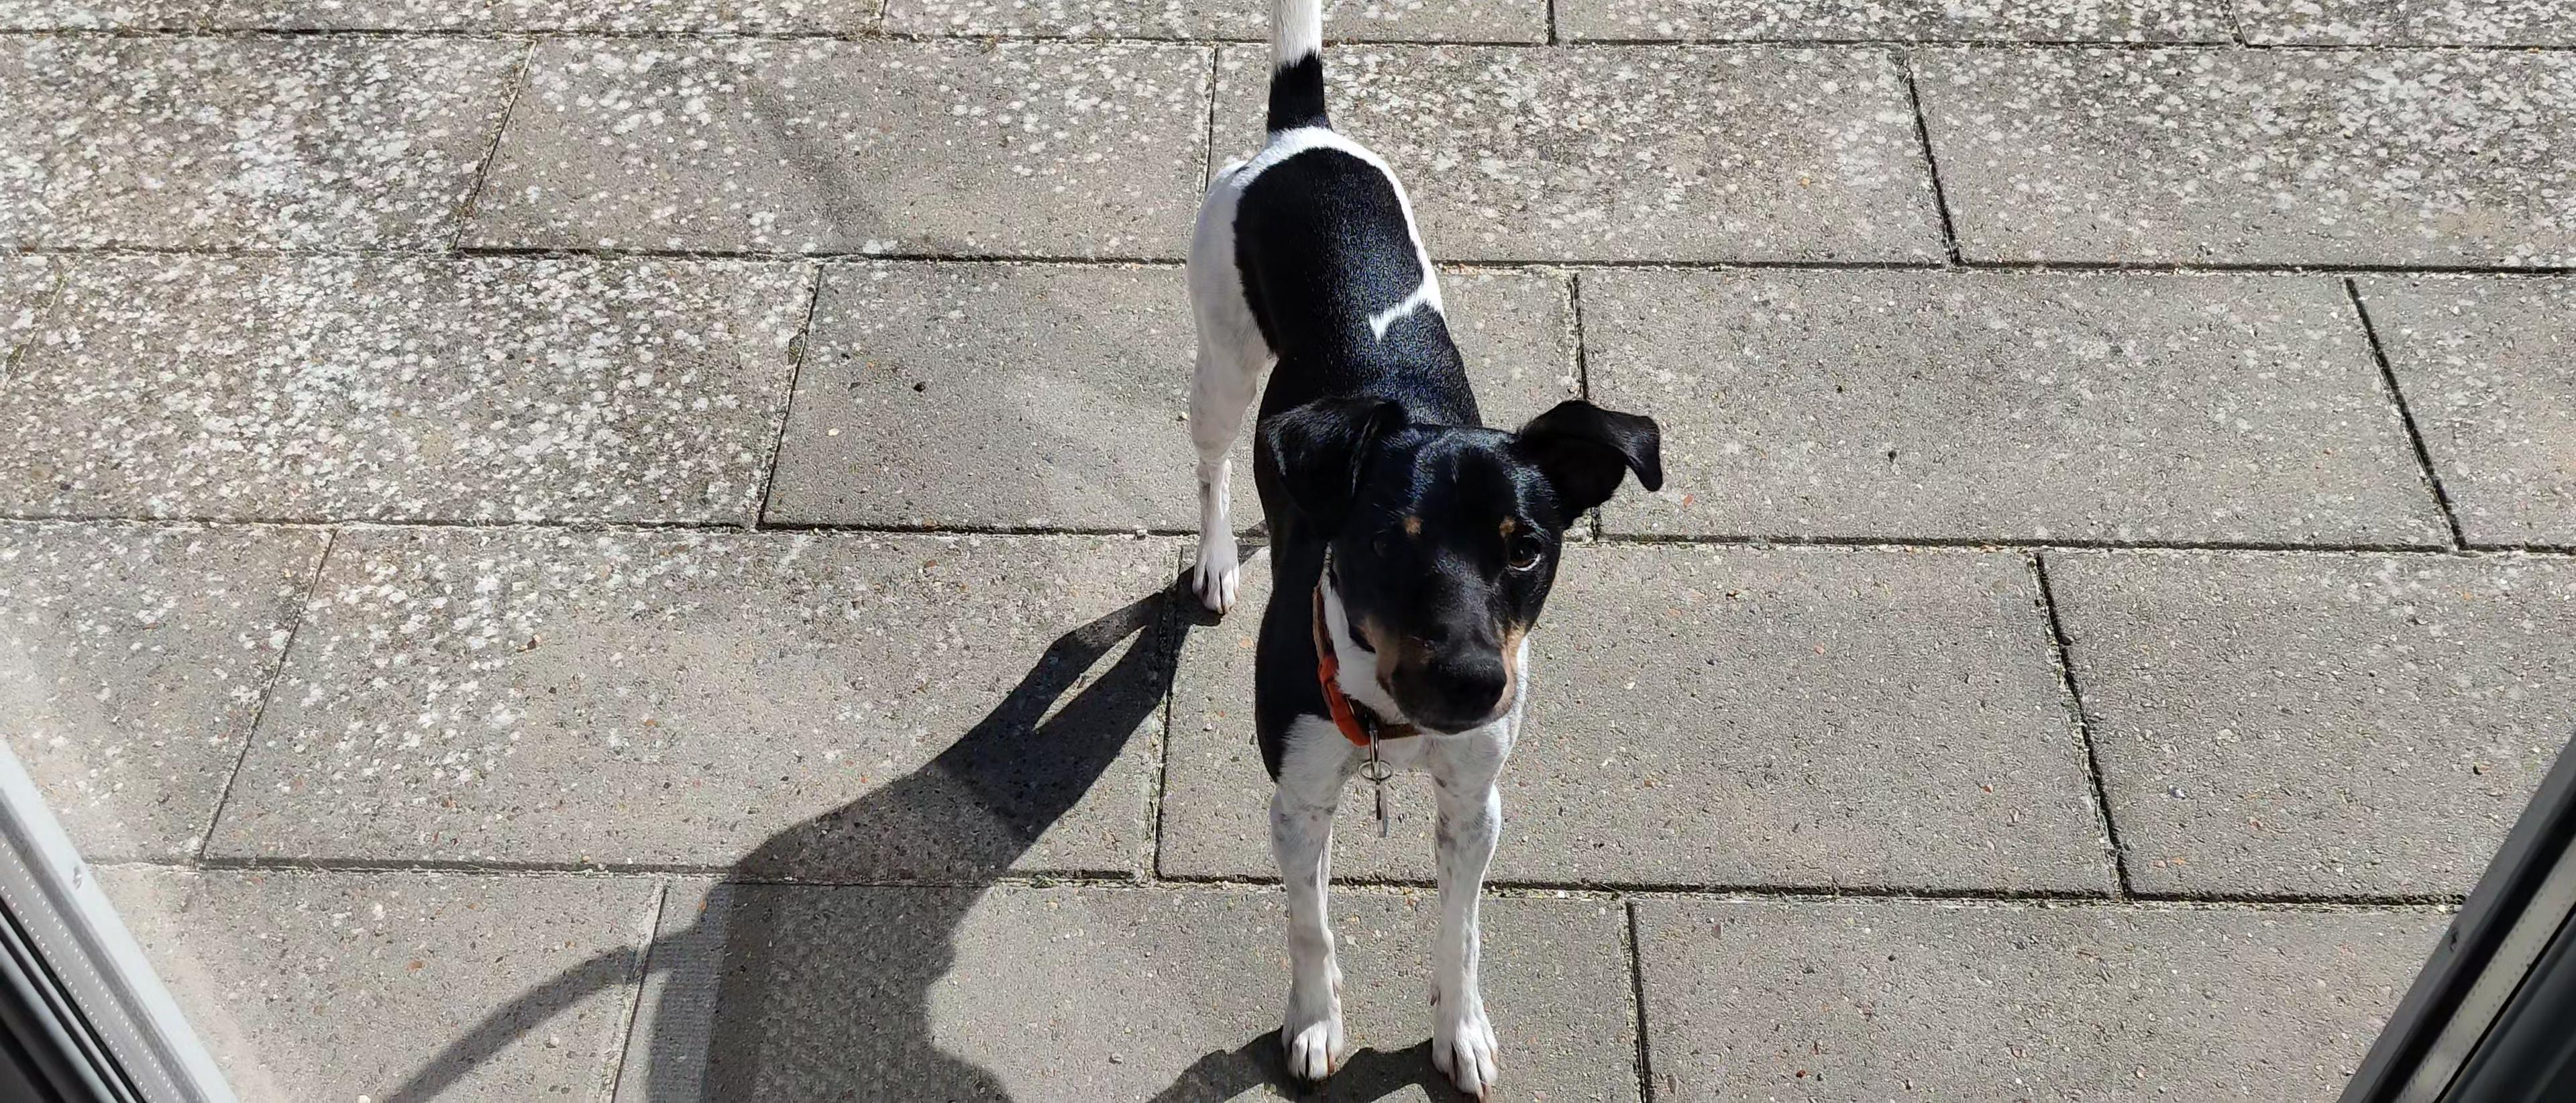Dog: (1175, 0, 1667, 1103)
